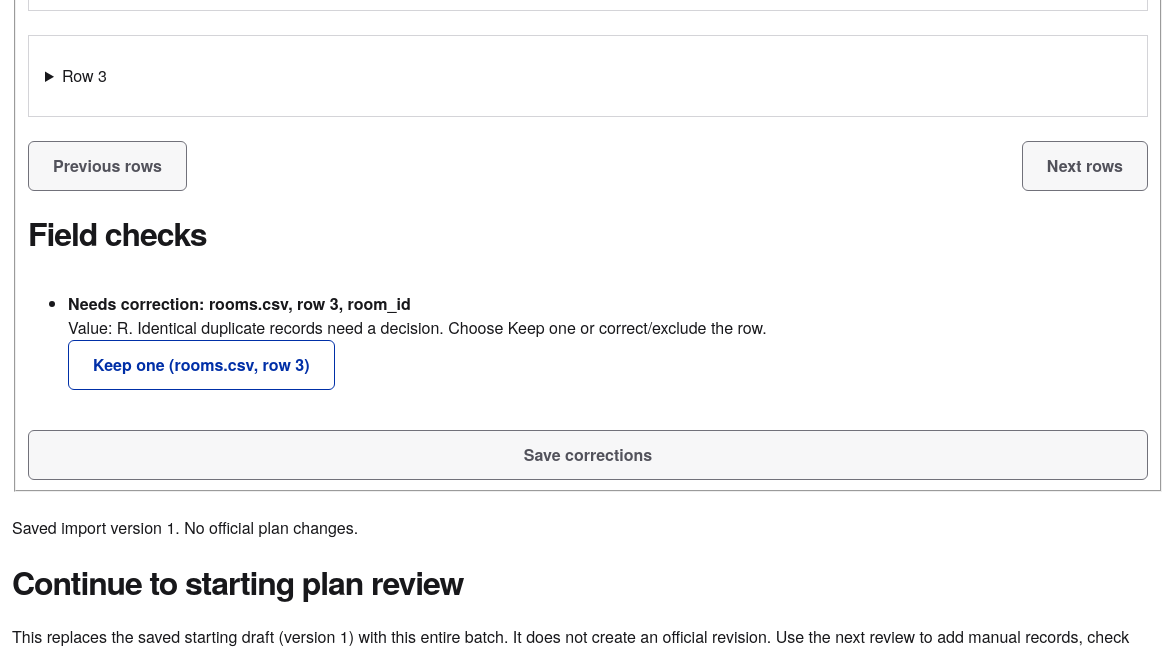
Test: CSV import controls › requires an explicit duplicate decision and saved corrections before staging
(page scrolled)
What coordinates should you click on to do the following:
click the button "Keep one (rooms.csv, row 3)"
I would click on:
 (201, 365)
Its box is x1=68 y1=340 x2=334 y2=390.
(page scrolled)
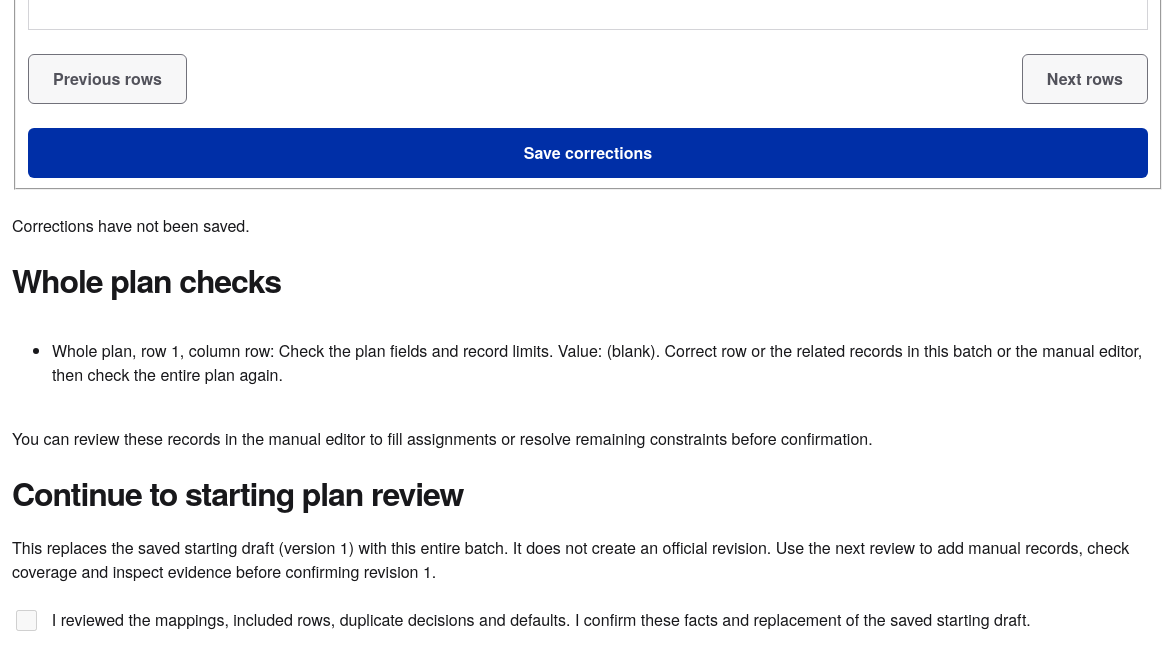
Expected: the message shows "not been saved", x1=12 y1=214 x2=250 y2=237
Expected: the button "Save corrections" is enabled, x1=28 y1=128 x2=1148 y2=178
Expected: the checkbox labelled "I reviewed" is disabled, x1=16 y1=610 x2=37 y2=631
